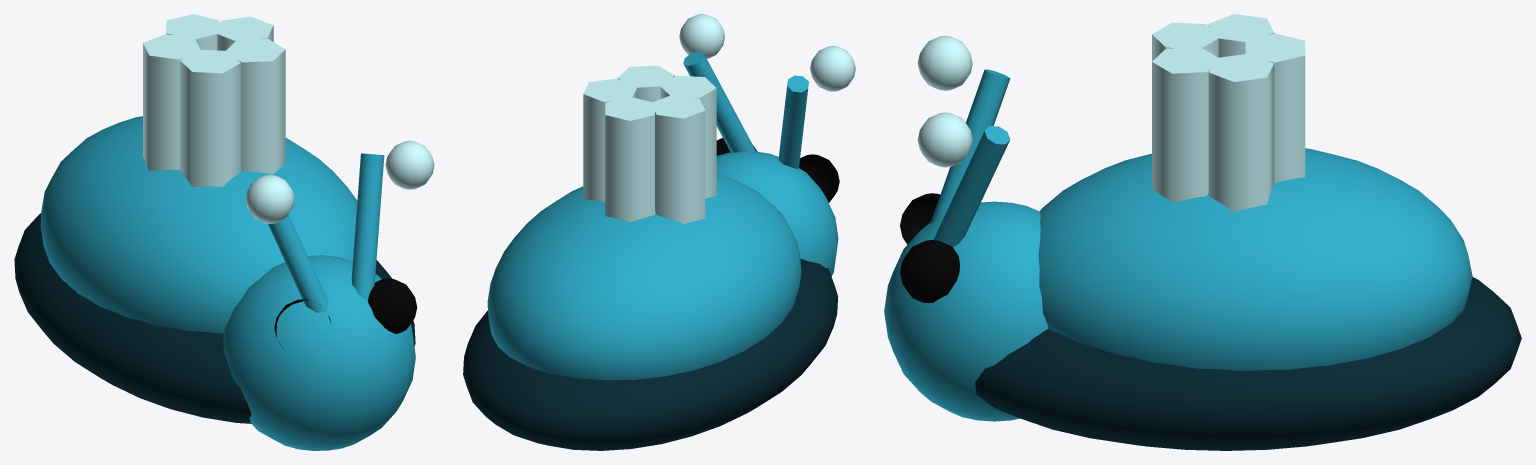
Rendered from copo.obj.
3 views of the same model, side by side, from view 1: azimuth 30°, elevation 25°; view 2: azimuth 150°, elevation 25°; view 3: azimuth 270°, elevation 25° (orthographic). The views are drawn at different scales.
Bounding box in the file's own units: 0.4 × 0.41 × 0.647.
